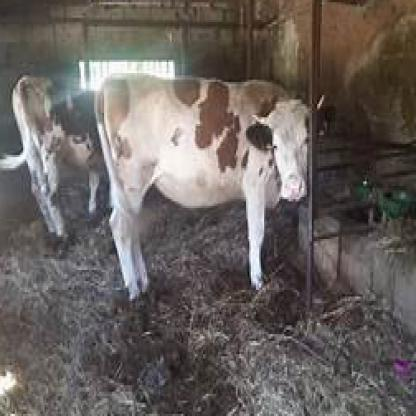cow: (96, 75, 332, 303), (0, 75, 101, 254)
